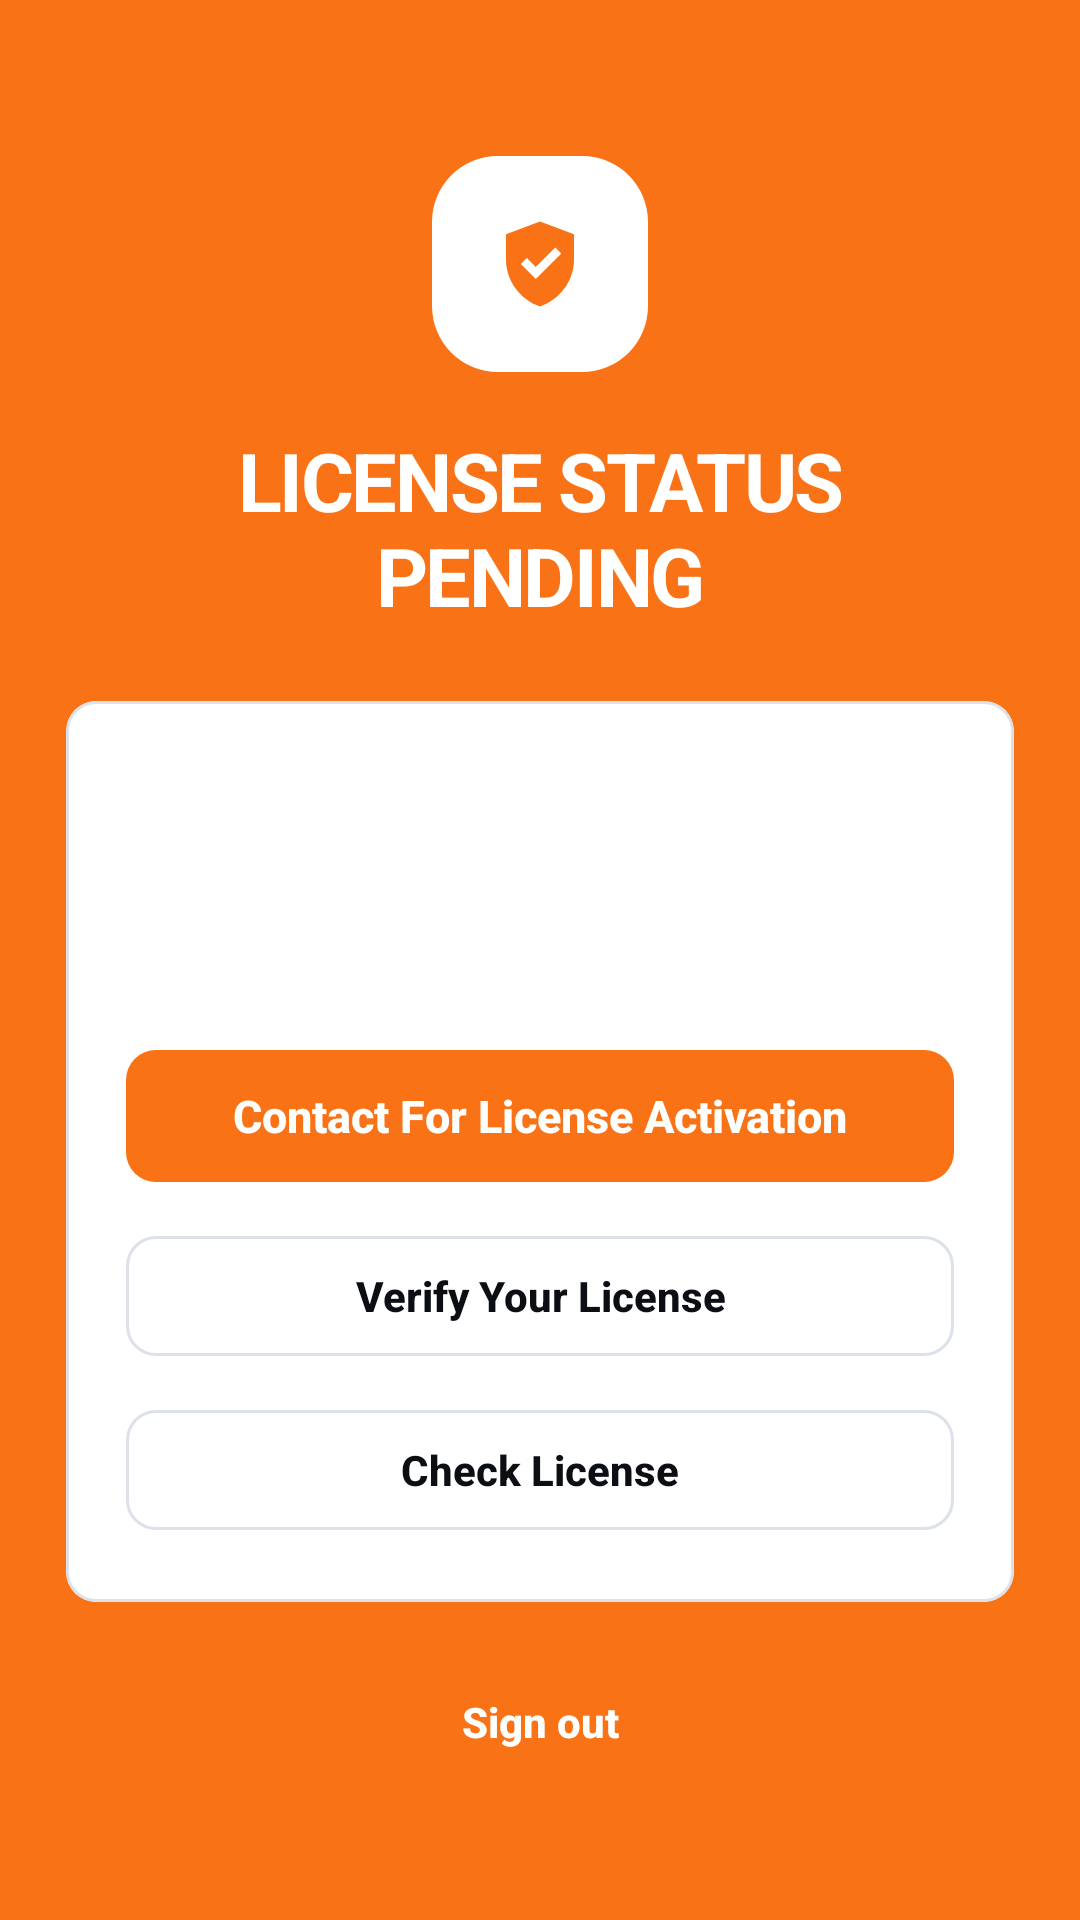

Icon click points for this 1080 × 1920 phone screenshot, format (x=x, y=y):
shield check: (x=540, y=264)
